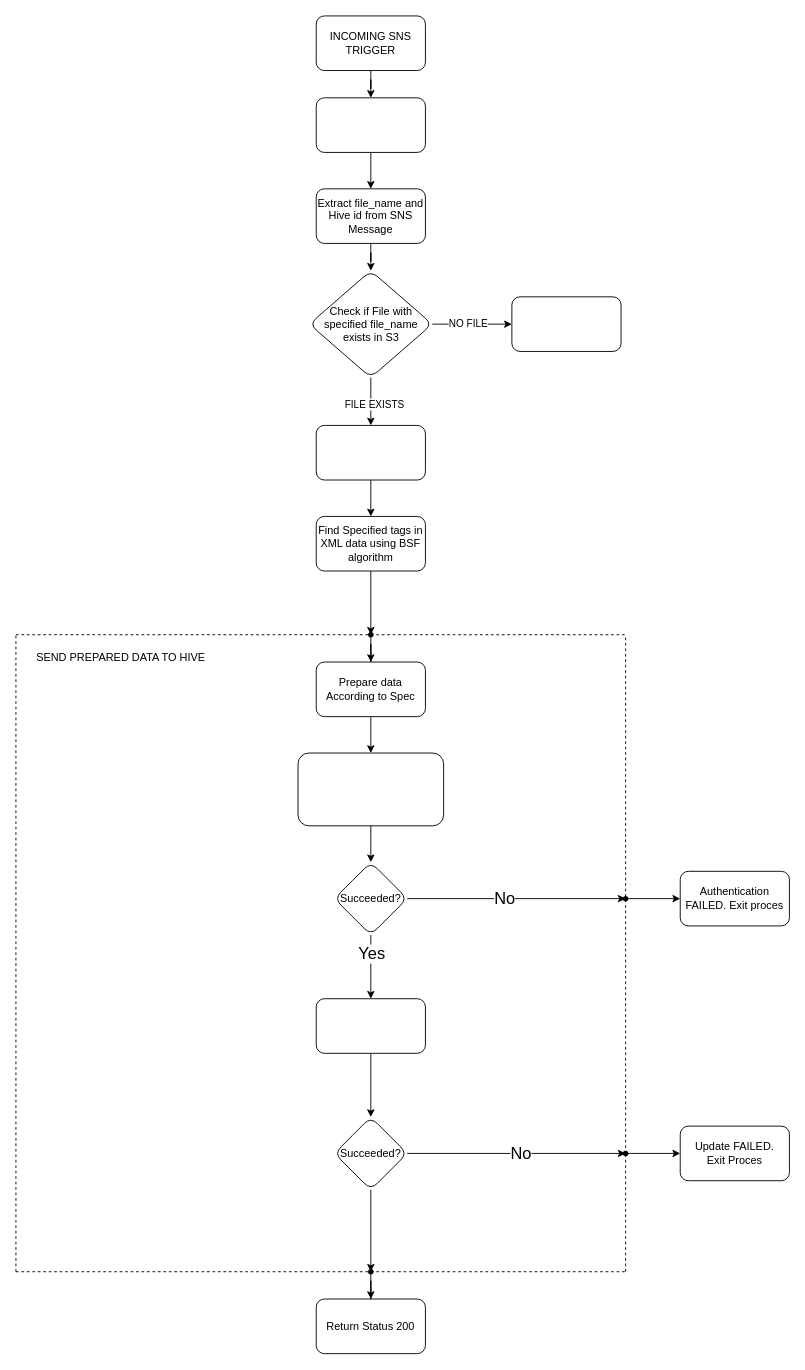
Some shapes in this 805 by 1370 pixel diagram are drawn without their labels. Here are the shapes that lost their labels. From the top down, the box of each, then its label:
(315, 97, 425, 152): Gather Message info from SNS trigger
(511, 296, 621, 351): FAIL GRACEFULLY and exit algorithm
(315, 425, 425, 480): Gather information from XML file in S3
(297, 752, 444, 826): Request for Authentication and Token with credentials from Secret manager
(315, 998, 425, 1053): Send Request to update metadata in Hive application
